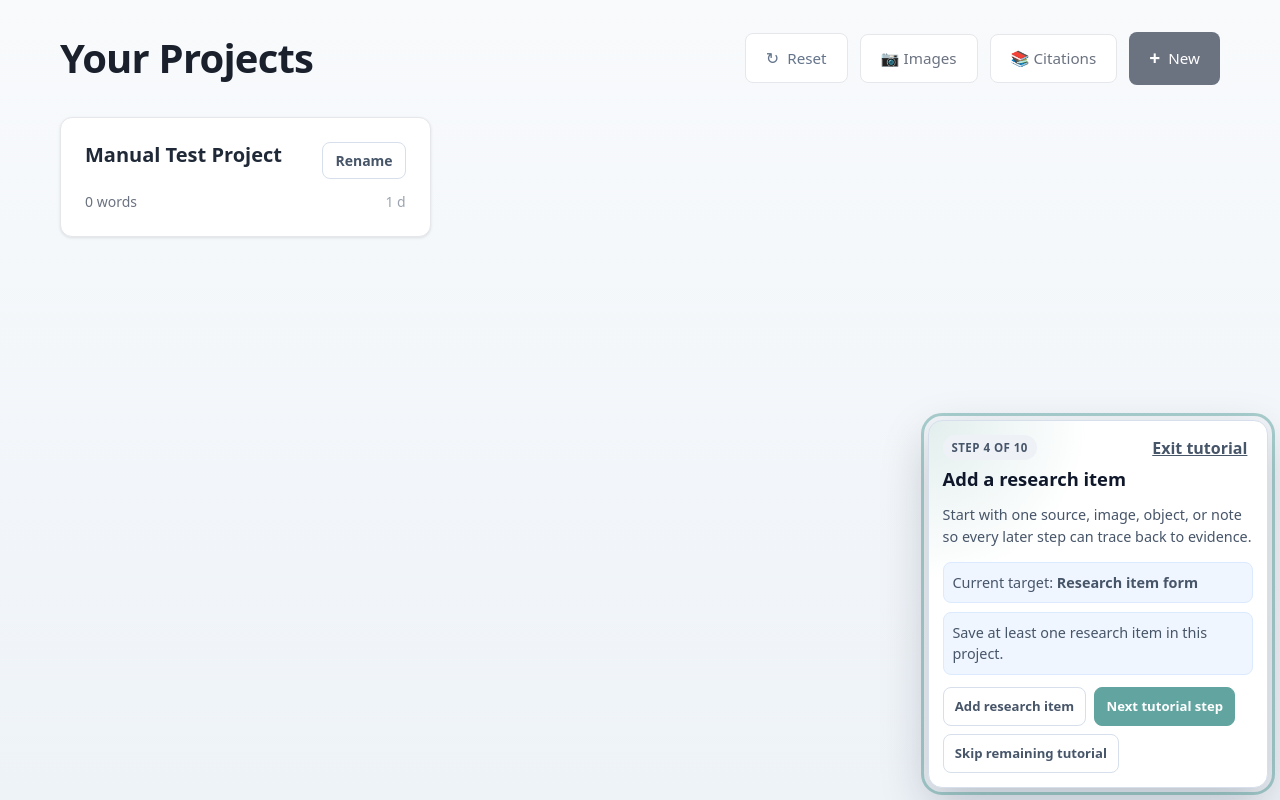
Test: reset button clears project state and restores the tutorial prompt from the dashboard
Expected: the heading "Manual Test Project" is shown, [85,142,282,168]
Expected: the dialog "Add a research item" is shown, [928,420,1268,788]
Click the button "↻ Reset" at point(796, 58), box [745,33,848,83]
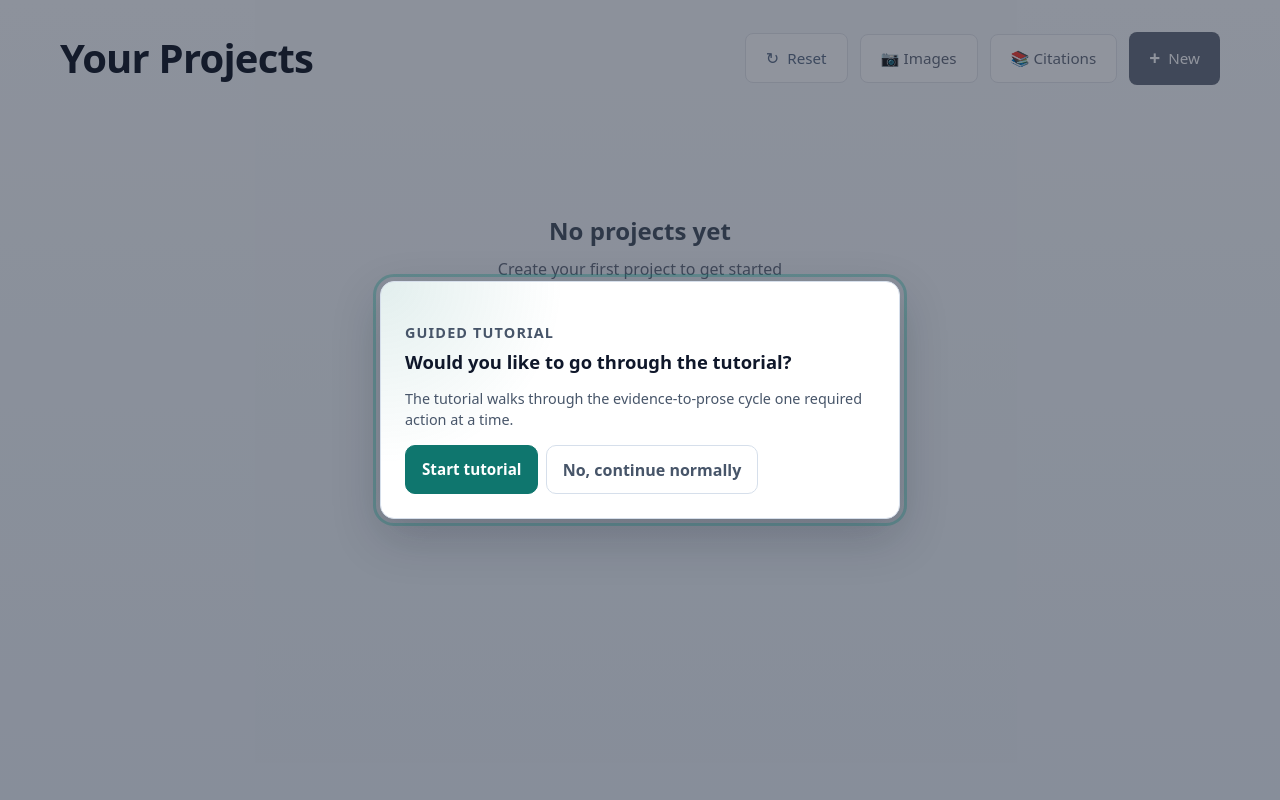
Now the heading "Manual Test Project" is gone
Now the heading "Add a research item" is gone
Now the dialog "Would you like to go through the tutorial" is shown, box [380,281,900,519]
